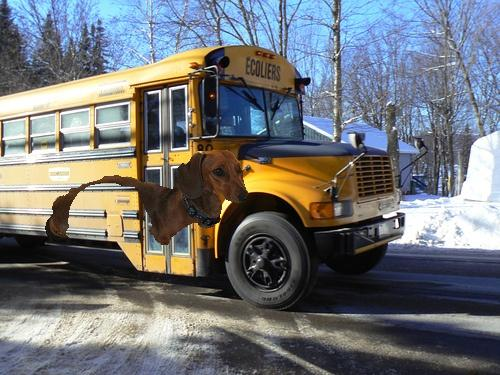tampered: (46, 151, 248, 245)
